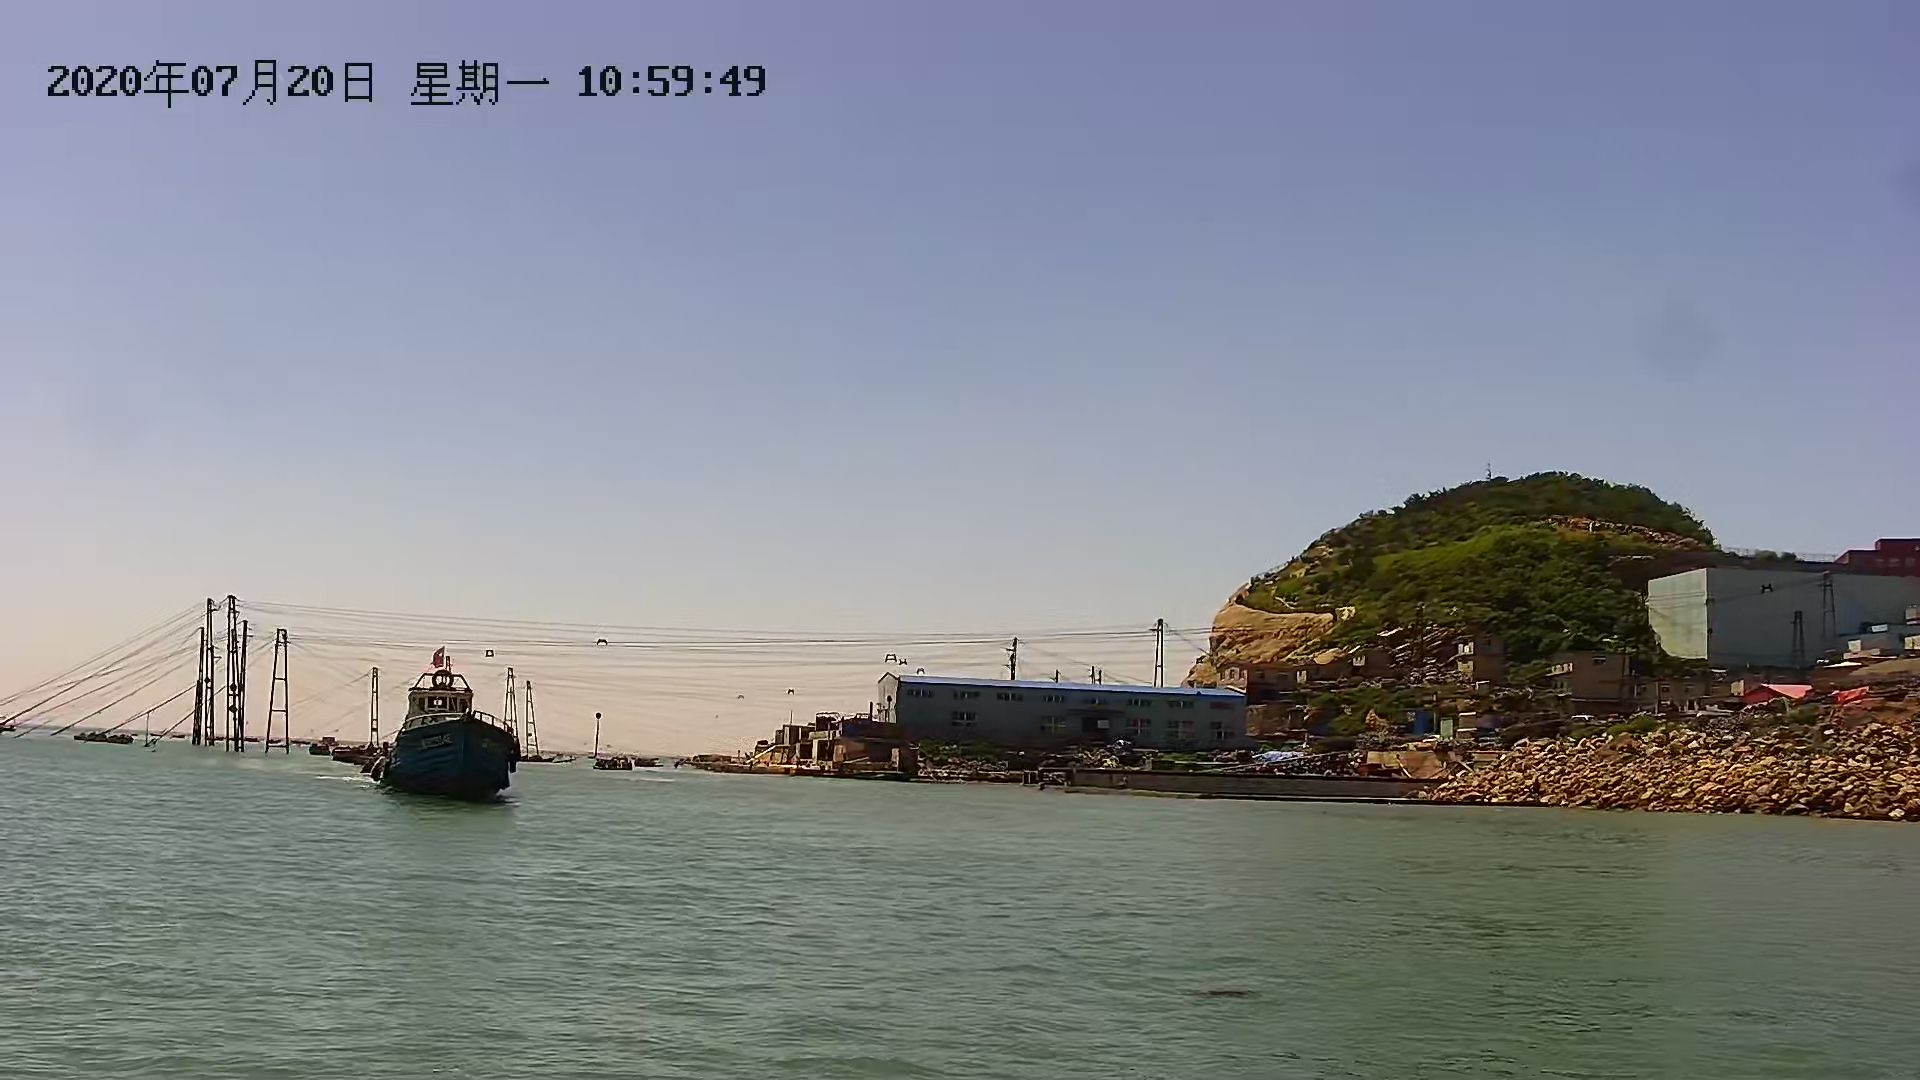mast: (225, 593, 252, 752), (191, 593, 218, 750), (266, 625, 291, 760), (520, 676, 546, 767), (367, 655, 382, 771)
ship: (378, 661, 505, 802)
